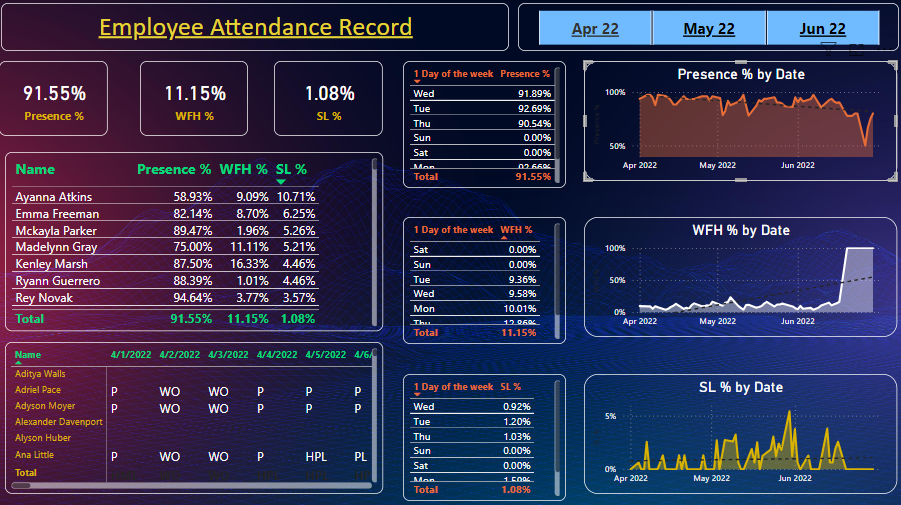

Layout of this report page (visuals, bound fields, positions):
{"tool":"powerbi","page":{"name":"Page 1","canvas":[1280,720],"ordinal":0},"visuals":[{"type":"slicer","fields":{"Values":["Final Data.Month"]},"box":[735.6,5.7,540,68],"z":0},{"type":"areaChart","fields":{"Y":["Final Data.Presence %"],"Category":["Final Data.Date"]},"box":[829.1,87.9,443.6,170.1],"z":1000},{"type":"areaChart","fields":{"Y":["Final Data.WFH %"],"Category":["Final Data.Date"]},"box":[829.1,309.7,443.6,170.1],"z":2000},{"type":"areaChart","fields":{"Y":["Final Data.SL %"],"Category":["Final Data.Date"]},"box":[829.1,531.5,443.6,170.1],"z":3000},{"type":"card","fields":{"Values":["Final Data.Presence %"]},"box":[0,87.9,154.5,106.3],"z":4000},{"type":"card","fields":{"Values":["Final Data.WFH %"]},"box":[199.8,87.9,153.1,106.3],"z":5000},{"type":"card","fields":{"Values":["Final Data.SL %"]},"box":[389.8,87.9,154.5,106.3],"z":6000},{"type":"tableEx","fields":{"Values":["Final Data.1 Day of the week","Final Data.Presence %"]},"box":[572.6,87.9,231,180],"z":7000},{"type":"tableEx","fields":{"Values":["Final Data.1 Day of the week","Final Data.WFH %"]},"box":[572.6,309.7,231,180],"z":8000},{"type":"tableEx","fields":{"Values":["Final Data.1 Day of the week","Final Data.SL %"]},"box":[572.6,531.5,231,180],"z":9000},{"type":"tableEx","fields":{"Values":["Final Data.Name","Final Data.Presence %","Final Data.WFH %","Final Data.SL %"]},"box":[8.5,216.9,535.7,253.7],"z":10000},{"type":"pivotTable","fields":{"Rows":["Final Data.Name"],"Values":["Min(Final Data.Value)"],"Columns":["Final Data.Date"]},"box":[8.5,486.1,535.7,215.4],"z":11000},{"type":"textbox","box":[2.8,5.7,720,68],"z":12000}]}

Visuals, with their boxes in screenshot pixels (x1, y1, x2, y2), scaled from the page's 1280x720 canvas onto the 901x505 screenshot:
slicer - Final Data.Month: <box>518,4,898,52</box>
areaChart - Final Data.Presence % x Final Data.Date: <box>584,62,896,181</box>
areaChart - Final Data.WFH % x Final Data.Date: <box>584,217,896,337</box>
areaChart - Final Data.SL % x Final Data.Date: <box>584,373,896,492</box>
card - Final Data.Presence %: <box>0,62,109,136</box>
card - Final Data.WFH %: <box>141,62,248,136</box>
card - Final Data.SL %: <box>274,62,383,136</box>
tableEx - Final Data.1 Day of the week x Final Data.Presence %: <box>403,62,566,188</box>
tableEx - Final Data.1 Day of the week x Final Data.WFH %: <box>403,217,566,343</box>
tableEx - Final Data.1 Day of the week x Final Data.SL %: <box>403,373,566,499</box>
tableEx - Final Data.Name x Final Data.Presence %: <box>6,152,383,330</box>
pivotTable - Final Data.Name x Min(Final Data.Value): <box>6,341,383,492</box>
textbox: <box>2,4,509,52</box>
